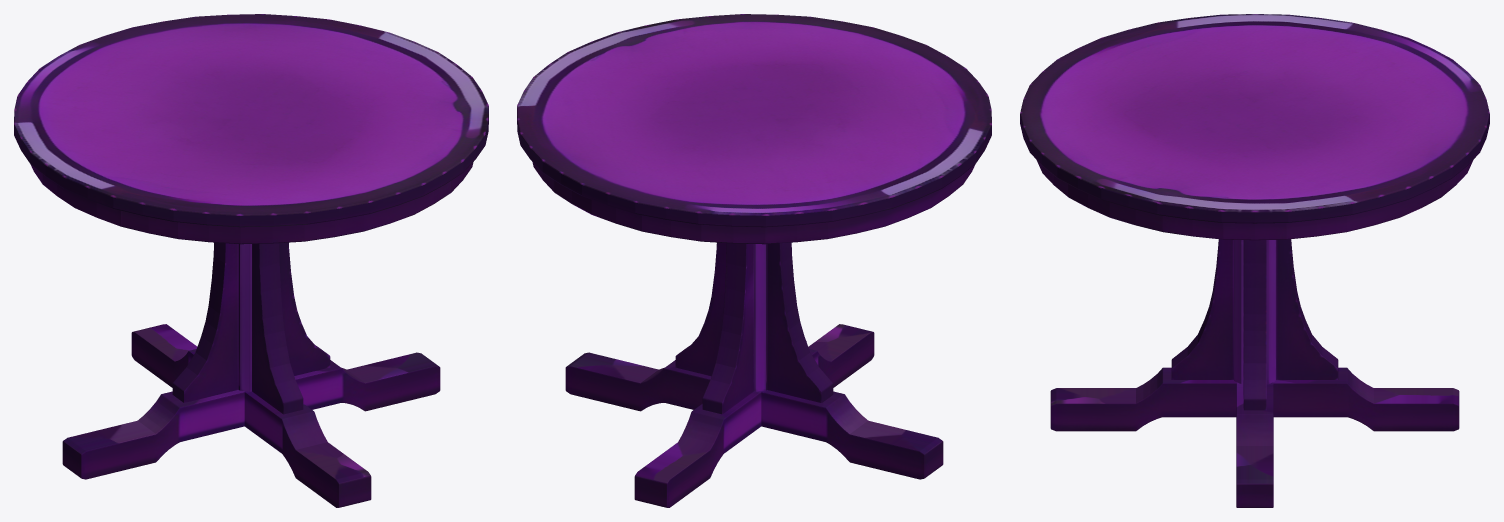
File: edited_mesh.glb
3 views of the same model, side by side, from view 1: azimuth 30°, elevation 25°; view 2: azimuth 150°, elevation 25°; view 3: azimuth 270°, elevation 25° (orthographic).
Visible parts, largest first — view 1: normalized_model.obj; view 2: normalized_model.obj; view 3: normalized_model.obj.
Boxes of the visible parts, x1,y1,x2,y2 form: normalized_model.obj: [14, 14, 488, 507]; normalized_model.obj: [517, 14, 991, 507]; normalized_model.obj: [1020, 14, 1489, 507].
Size of the model in its own units: 1.62 by 1.19 by 1.62.
1 material, 1 textured.
